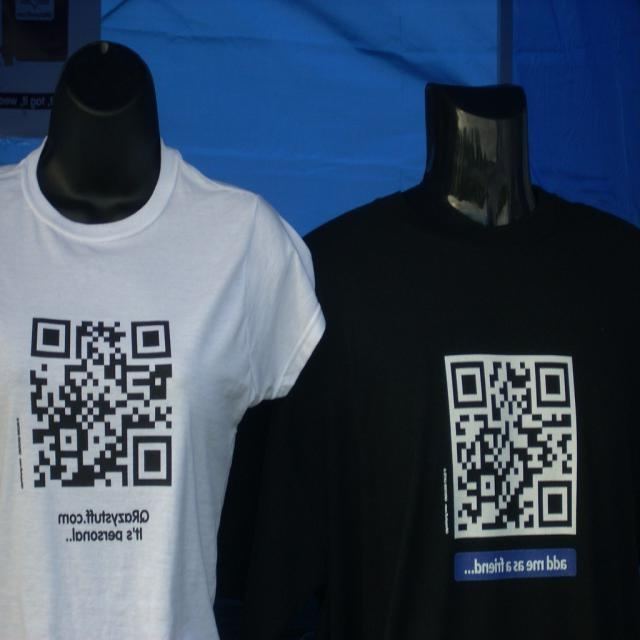qr-code: (30, 316, 172, 488), (450, 361, 571, 531)
